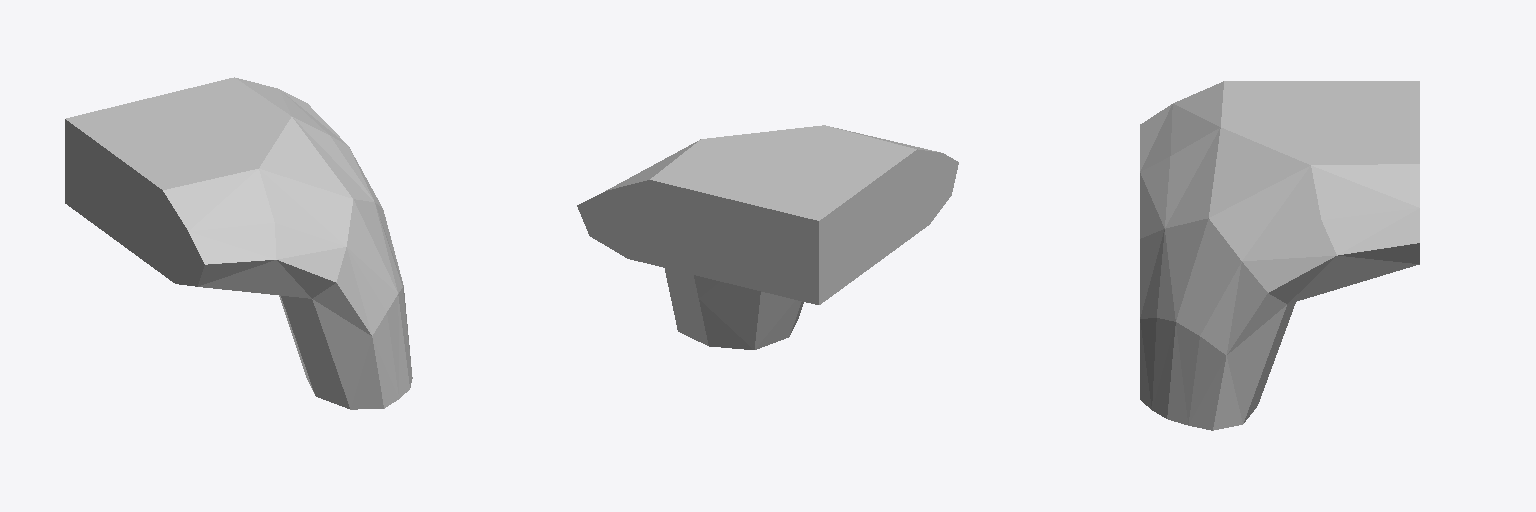
The model's file is QTable01.obj.
The picture shows the model from 3 angles: view 1: azimuth 30°, elevation 25°; view 2: azimuth 150°, elevation 25°; view 3: azimuth 270°, elevation 25°; orthographic projection.
Parts seen in each view (by area): view 1: Cube4; view 2: Cube4; view 3: Cube4.
Part boxes in pixels (bbox=[...]): Cube4: bbox=[65, 77, 412, 409]; Cube4: bbox=[577, 125, 958, 349]; Cube4: bbox=[1140, 81, 1419, 430].
Size of the model in its own units: 200 by 182 by 200.